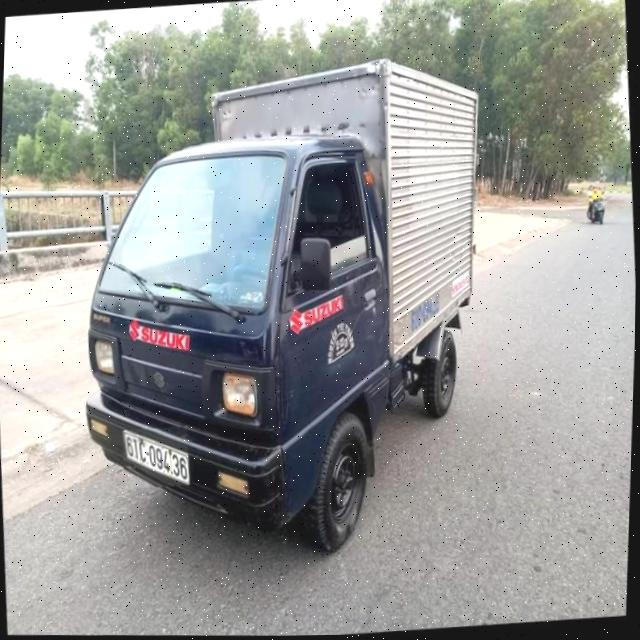car: (77, 49, 491, 553)
plate: (119, 427, 195, 488)
